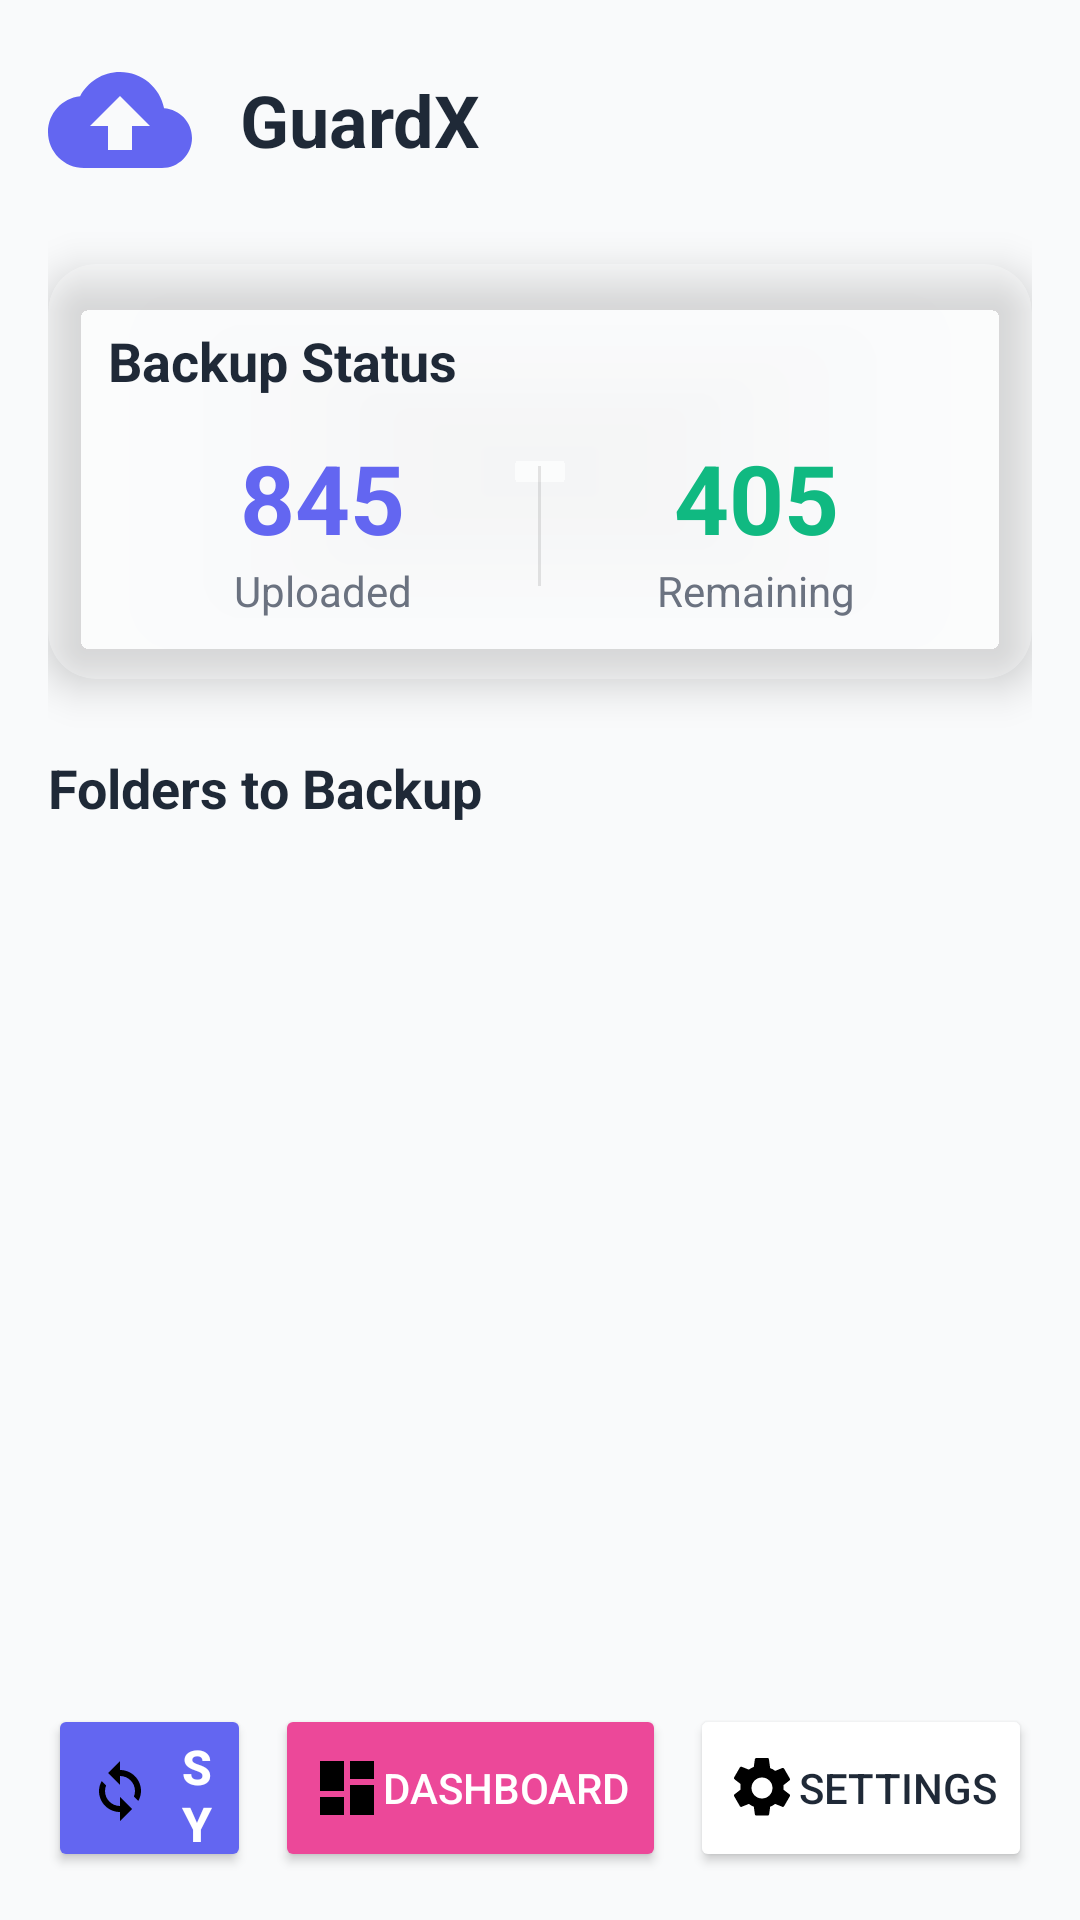

Named icons in this screenshot (1080*1920) and their bounding boxes, [left=x1, top=y1, right=x2, bottom=y2]:
cloud upload: [left=48, top=72, right=192, bottom=168]
